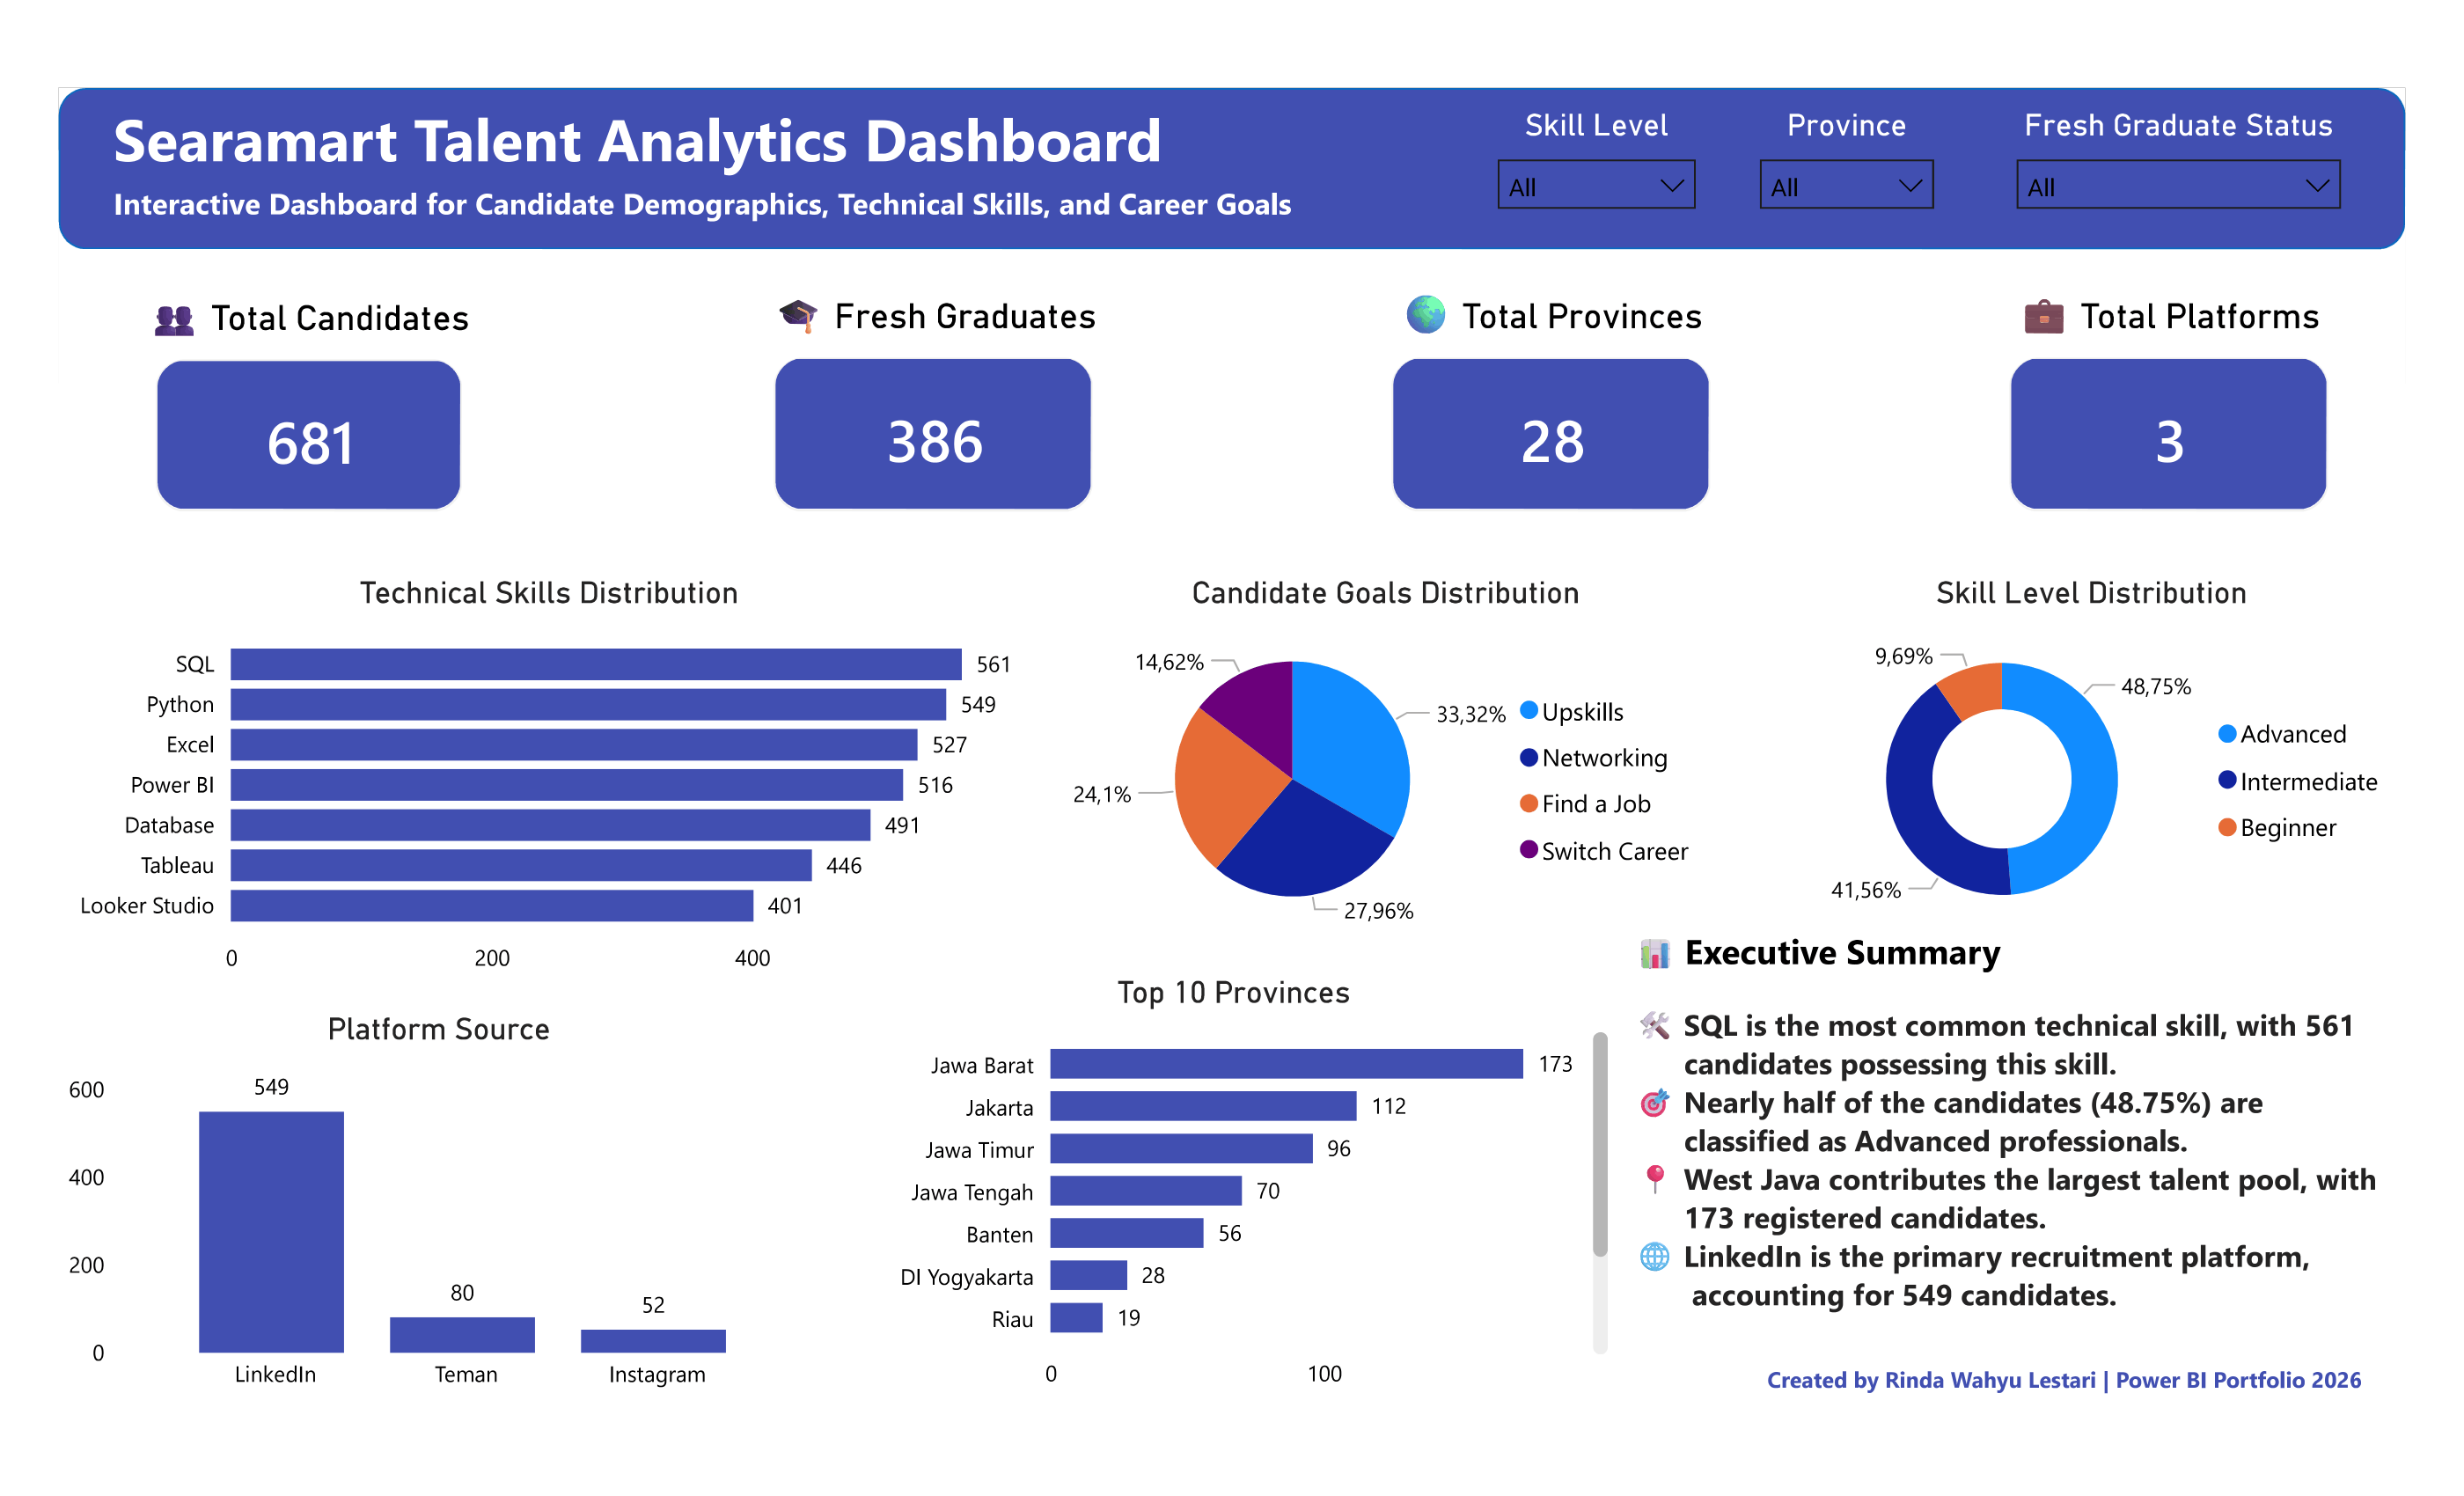

What the dashboard file says about the page in this screenshot:
{"tool":"powerbi","page":{"name":"Page 1","canvas":[1280,720],"ordinal":0},"visuals":[{"type":"shape","box":[0,0,1280,88.3],"z":0},{"type":"textbox","box":[11.7,0,608.3,53.3],"z":1000},{"type":"textbox","box":[25,46.7,661.7,41.7],"z":2000},{"type":"clusteredColumnChart","title":"Platform Source","fields":{"Category":["Candidates.platform_source"],"Y":["CountNonNull(Candidates.candidate_id)"]},"box":[0,503.3,415,216.7],"z":3000},{"type":"cardVisual","title":"🎓 Fresh Graduates","fields":{"Data":["Candidates.Fresh Graduates"]},"box":[373.3,108.3,208.3,140],"z":4000},{"type":"cardVisual","title":"🌍 Total Provinces","fields":{"Data":["Candidates.Total Provinces"]},"box":[710,108.3,208.3,140],"z":5000},{"type":"cardVisual","title":"💼 Total Platforms","fields":{"Data":["Candidates.Total Platforms"]},"box":[1046.7,108.3,208.3,140],"z":6000},{"type":"clusteredBarChart","title":"Technical Skills Distribution","fields":{"Category":["Candidate Skills.Skill"],"Y":["CountNonNull(Candidate Skills.candidate_id)"]},"box":[0,265.1,534.9,227.9],"z":7000},{"type":"pieChart","title":"Candidate Goals Distribution","fields":{"Category":["Candidate Goals.Goal"],"Y":["CountNonNull(Candidate Goals.Has Goal)"]},"box":[545.4,265.1,358.1,204.7],"z":8000},{"type":"clusteredBarChart","title":"Top 10 Provinces","fields":{"Category":["Candidates.province"],"Y":["CountNonNull(Candidates.candidate_id)"]},"box":[431.7,483.3,418.3,236.7],"z":9000},{"type":"donutChart","title":"Skill Level Distribution","fields":{"Category":["Candidates.skill_level"],"Y":["CountNonNull(Candidates.candidate_id)"]},"box":[938.4,265.1,341.9,204.7],"z":10000},{"type":"slicer","title":"Province","fields":{"Values":["Candidates.province"]},"box":[918.3,10,115,65],"z":11000},{"type":"slicer","title":"Skill Level","fields":{"Values":["Candidates.skill_level"]},"box":[775,10,128.3,65],"z":12000},{"type":"cardVisual","title":"👥 Total Candidates","fields":{"Data":["CountNonNull(Candidates.candidate_id)"]},"box":[36.3,108.6,201.2,139.5],"z":13000},{"type":"slicer","title":"Fresh Graduate Status","fields":{"Values":["Candidates.fresh_graduate_status"]},"box":[1058.3,10,196.7,73.3],"z":14000},{"type":"textbox","box":[854.5,453.2,426,236.4],"z":15000},{"type":"textbox","box":[927.3,689.6,353.2,29.9],"z":16000}]}

Visuals, with their boxes on the page's 1280x720 design canvas (x1, y1, x2, y2). These are canvas units, not pixel positions in the 2464x1496 screenshot, which may show the page scaled, cropped or inside an application window:
shape: (0,0,1280,88)
textbox: (12,0,620,53)
textbox: (25,47,687,88)
"Platform Source" clusteredColumnChart: (0,503,415,720)
"🎓 Fresh Graduates" cardVisual: (373,108,582,248)
"🌍 Total Provinces" cardVisual: (710,108,918,248)
"💼 Total Platforms" cardVisual: (1047,108,1255,248)
"Technical Skills Distribution" clusteredBarChart: (0,265,535,493)
"Candidate Goals Distribution" pieChart: (545,265,904,470)
"Top 10 Provinces" clusteredBarChart: (432,483,850,720)
"Skill Level Distribution" donutChart: (938,265,1280,470)
"Province" slicer: (918,10,1033,75)
"Skill Level" slicer: (775,10,903,75)
"👥 Total Candidates" cardVisual: (36,109,238,248)
"Fresh Graduate Status" slicer: (1058,10,1255,83)
textbox: (854,453,1280,690)
textbox: (927,690,1280,720)
